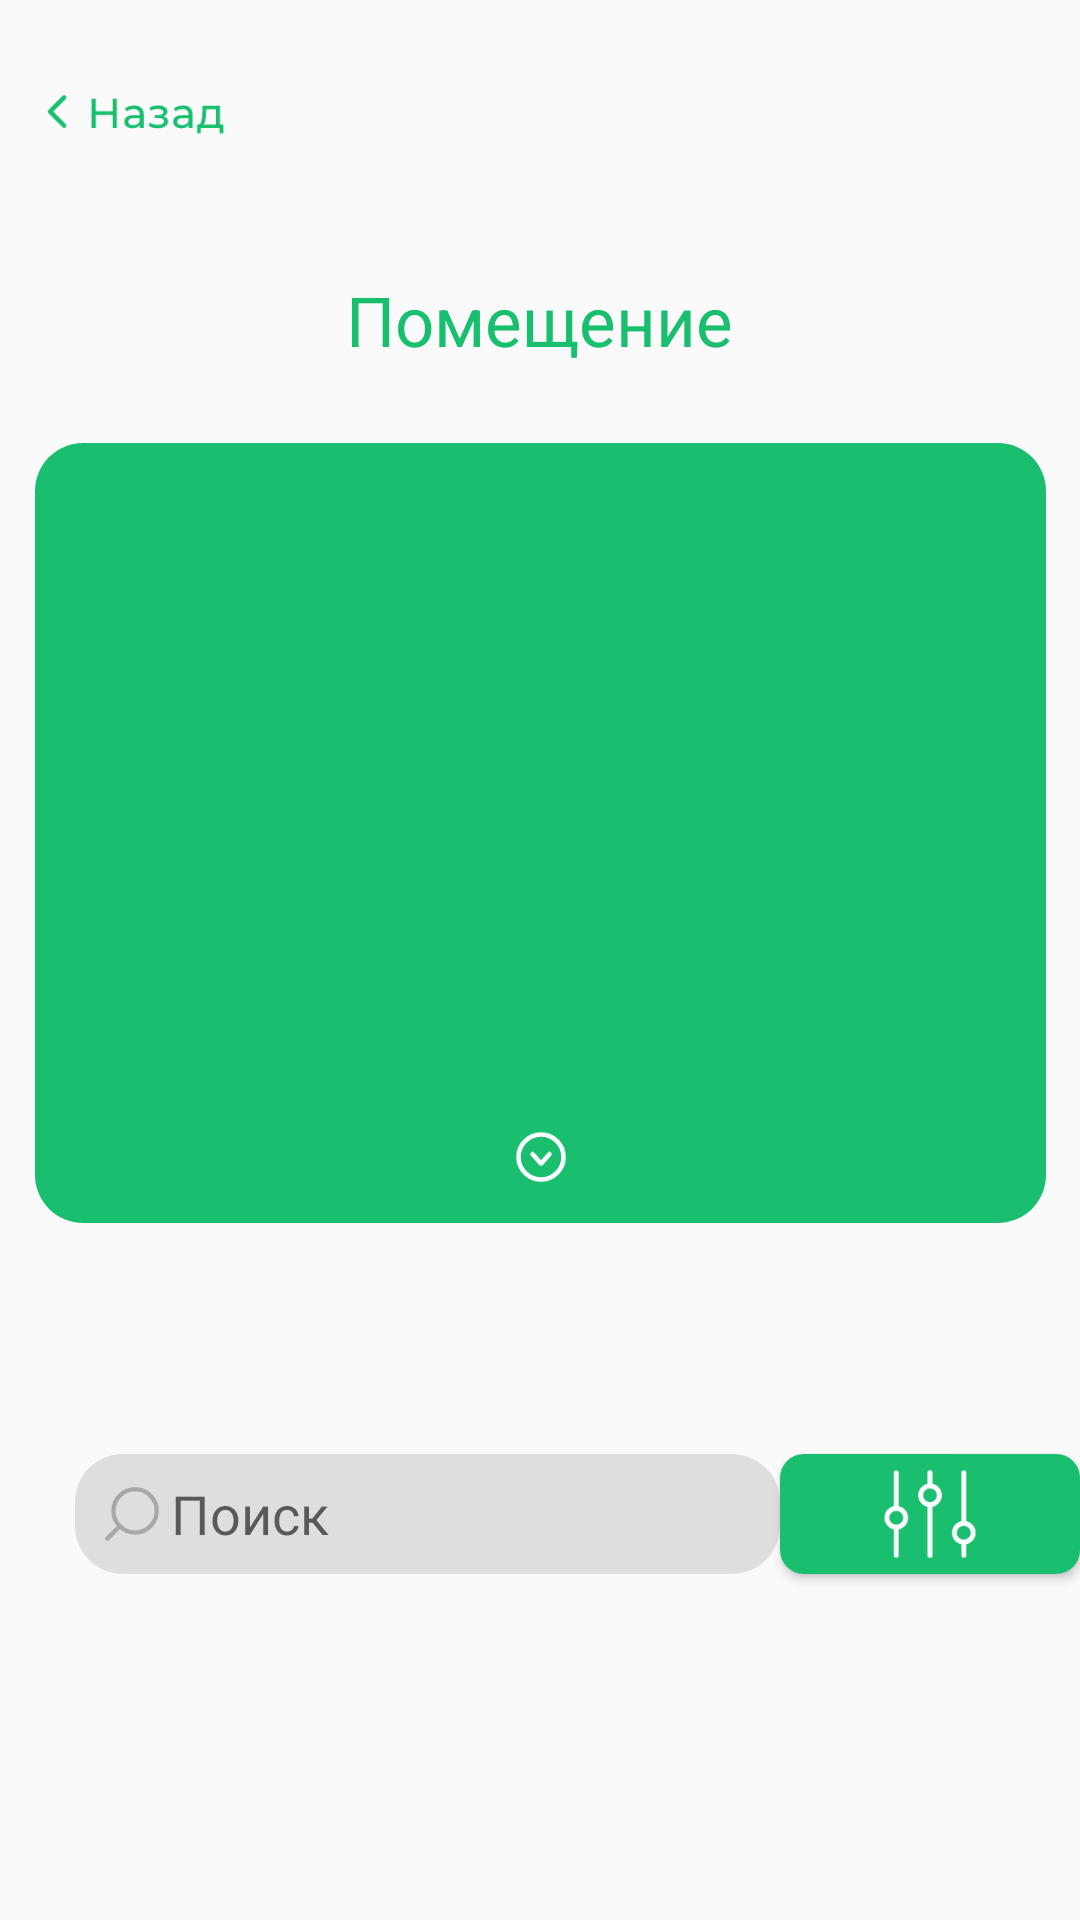

Locate icon controls on the screen. Image size 1080 x 1920, boxes as bbox(x1, y1, x2, y2).
caretcircledown: bbox(515, 1132, 567, 1183)
magnifyingglass: bbox(105, 1487, 159, 1541)
sliders: bbox(780, 1454, 1080, 1574)
